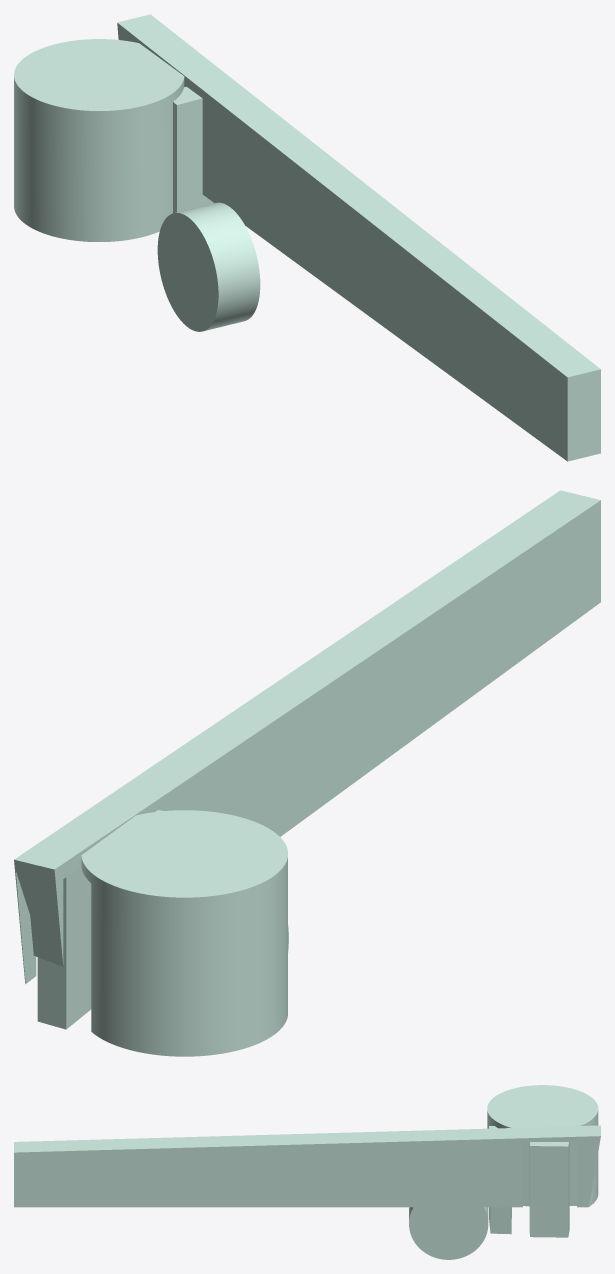
3 renders of one model, top to bottom at view 1: azimuth 30°, elevation 25°; view 2: azimuth 150°, elevation 25°; view 3: azimuth 270°, elevation 25°, orthographic. The views are drawn at different scales.
Parts seen in each view (by area): view 1: Renderer Node; view 2: Renderer Node; view 3: Renderer Node.
Part boxes in pixels (box(x1,y1,x2,y2)): Renderer Node: box(14, 14, 600, 461); Renderer Node: box(14, 490, 600, 1056); Renderer Node: box(14, 1085, 600, 1259).
Size of the model in its own units: 0.3283 by 0.3725 by 1.46.
